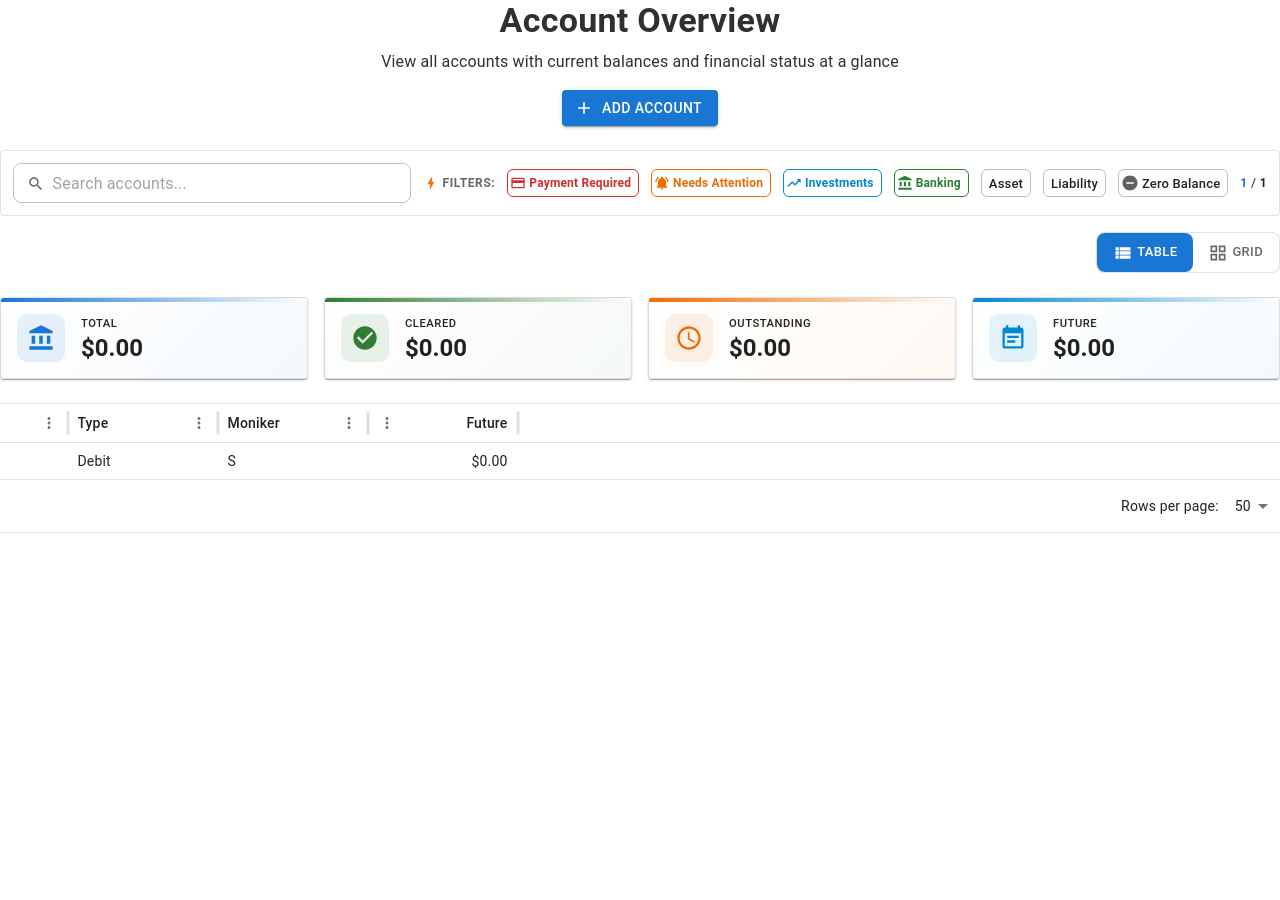
Test: pages/finance/index (Accounts) › shows error when add account fails
Click the button "Add Account" at (640, 108), box [562,90,718,126]
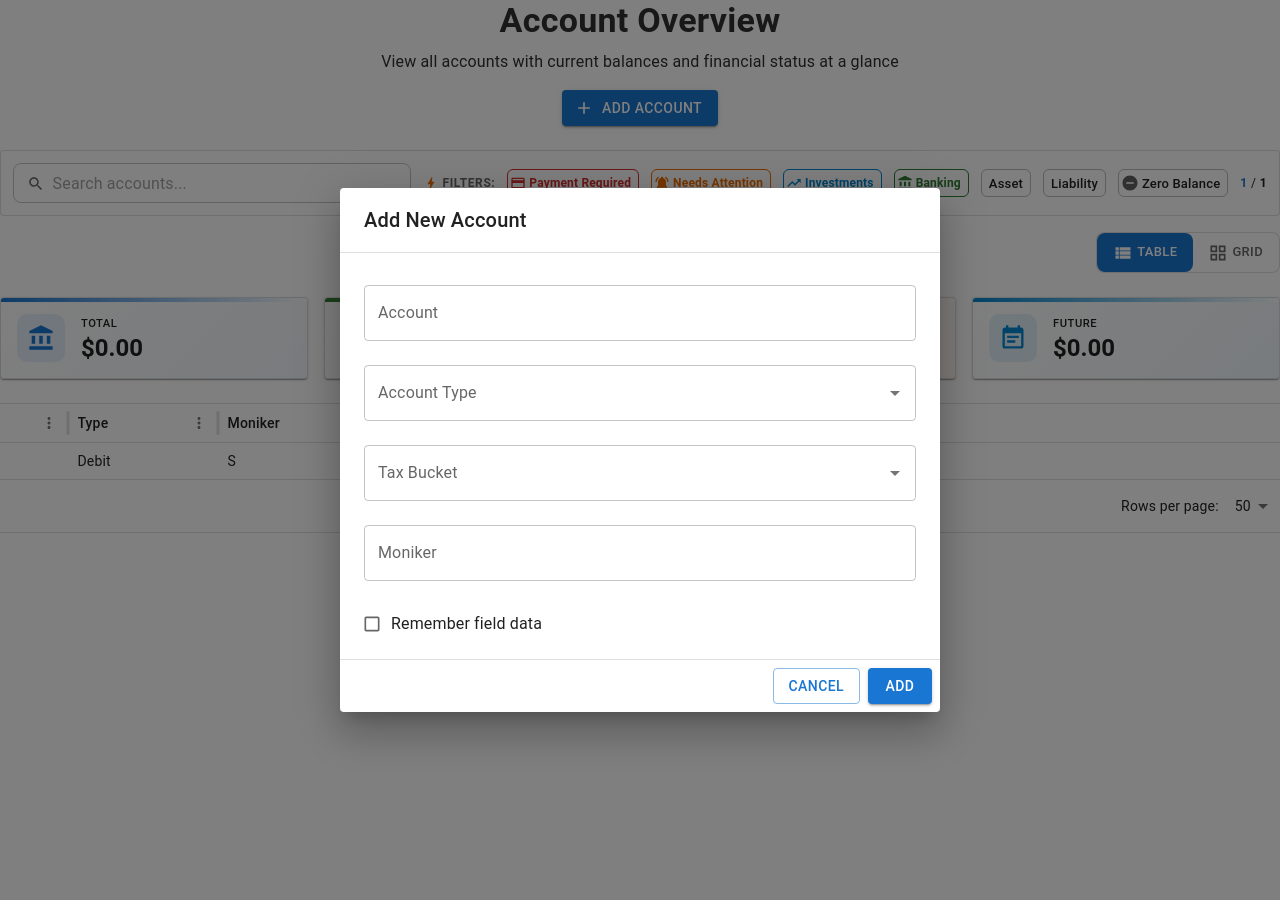
Click the button "Add" at (900, 686), box [868,668,932,704]
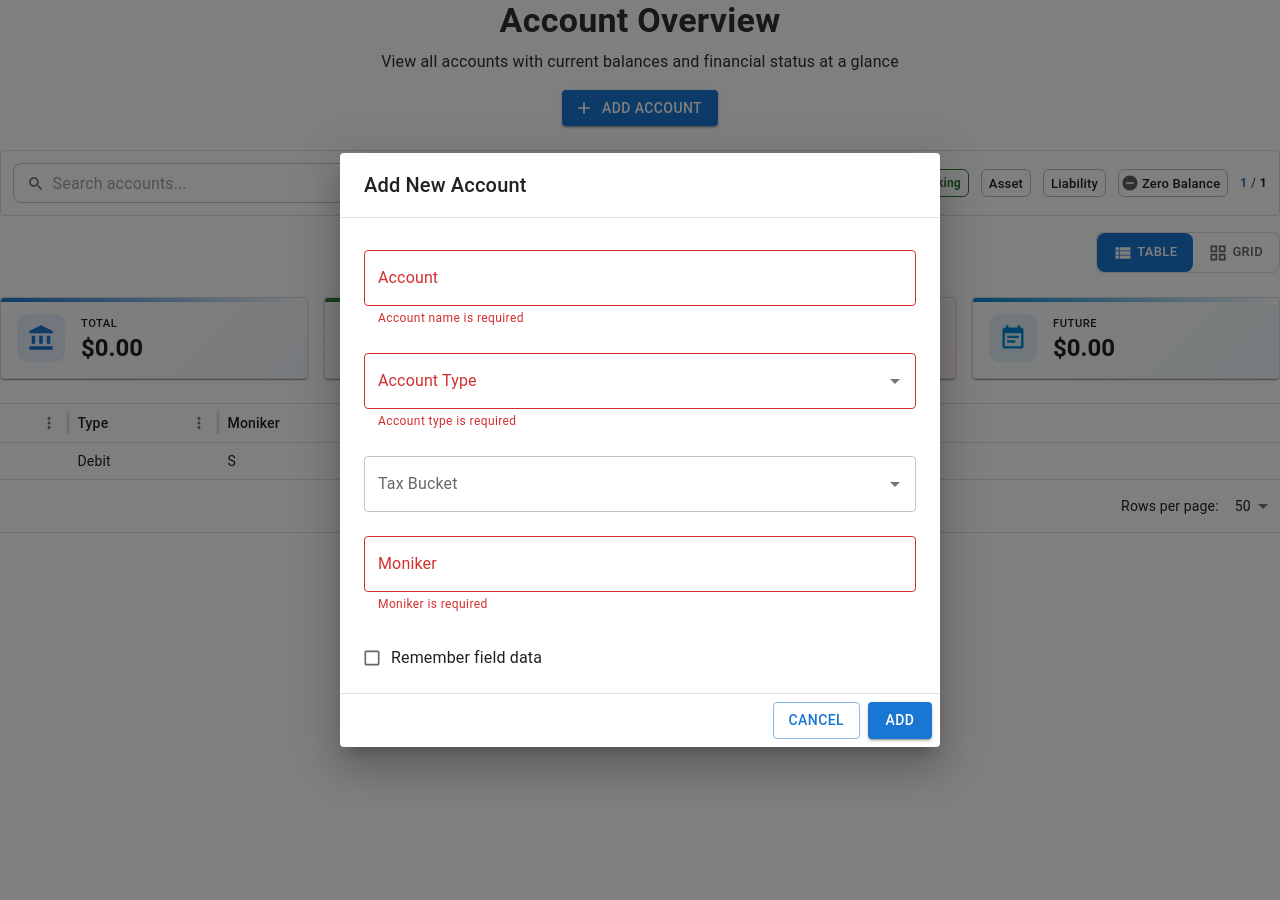
Expected: the text "Account name is required" is shown, [378,311,524,325]
Expected: the text "Account type is required" is shown, [378,414,516,428]
Expected: the text "Moniker is required" is shown, [378,597,488,611]
